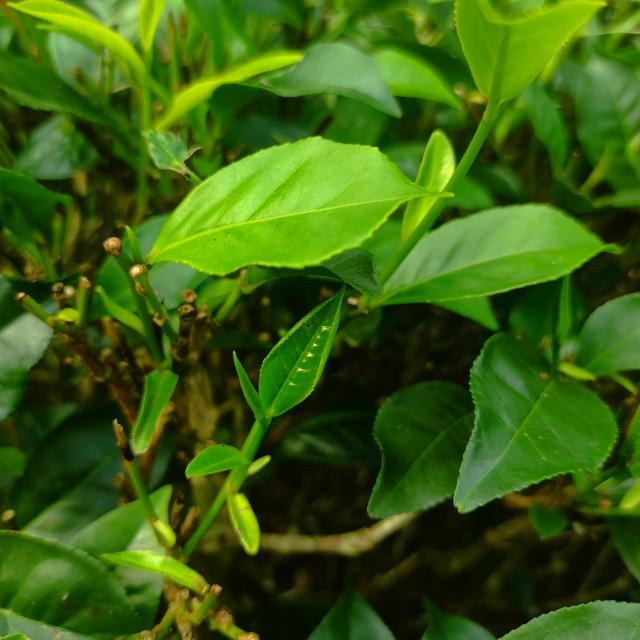unopened_leaf: (224, 346, 276, 429)
